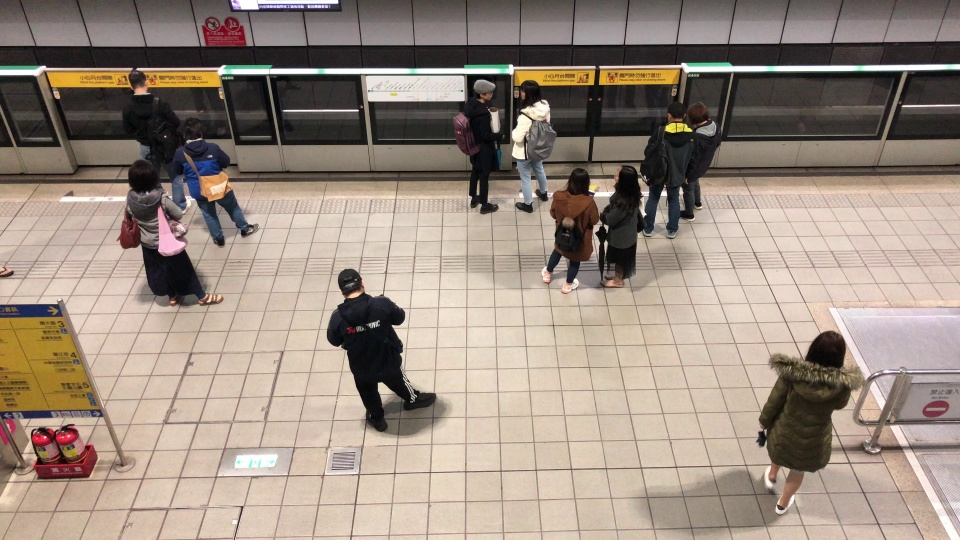person_head: (802, 330, 846, 372), (125, 158, 160, 193), (337, 269, 367, 298), (178, 116, 205, 143), (566, 167, 591, 196), (127, 68, 151, 95), (613, 164, 638, 189), (472, 78, 496, 102), (518, 78, 541, 103), (687, 101, 710, 125), (666, 100, 687, 123)
person_vbox: (755, 331, 866, 516), (323, 266, 437, 433), (114, 158, 223, 308), (172, 118, 260, 247), (120, 68, 192, 216), (639, 100, 699, 240), (539, 167, 600, 294), (451, 76, 503, 216), (594, 164, 647, 287), (512, 78, 557, 212), (678, 101, 721, 221)
